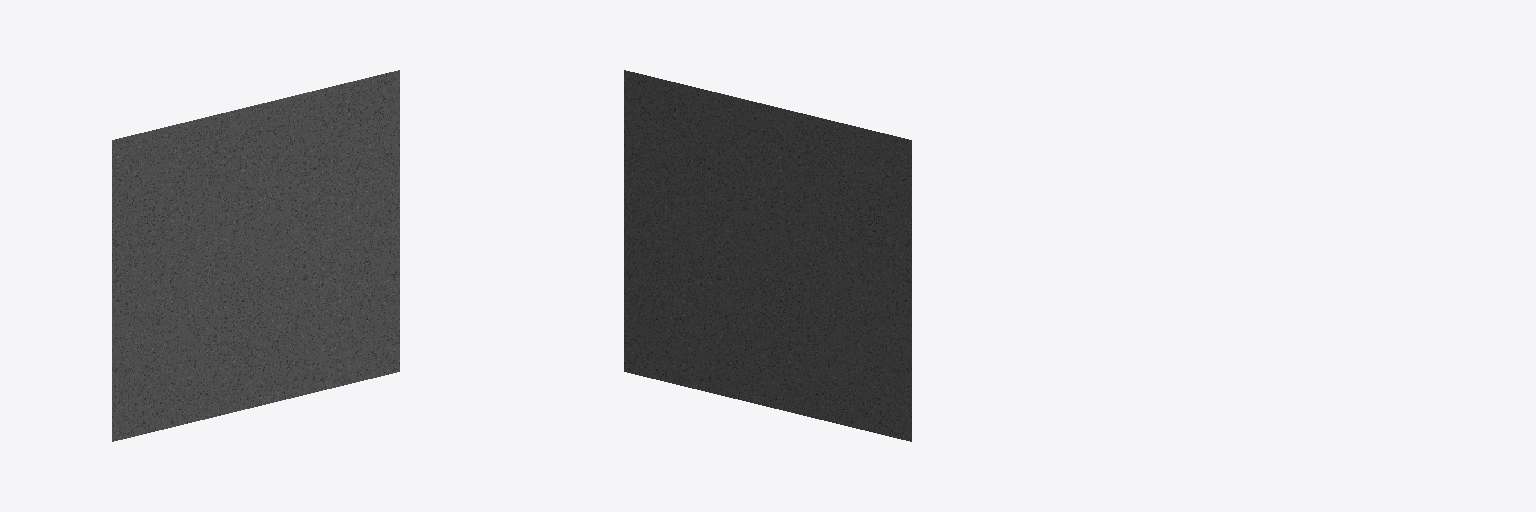
The picture shows the model from 3 angles: view 1: azimuth 30°, elevation 25°; view 2: azimuth 150°, elevation 25°; view 3: azimuth 270°, elevation 25°; orthographic projection.
Visible parts, largest first — view 1: Plane; view 2: Plane; view 3: none.
Part boxes in pixels (left/top/right/bottom): Plane: left=112, top=70, right=399, bottom=441; Plane: left=624, top=70, right=911, bottom=441.
Bounding box in the file's own units: 2 × 2 × 0.
1 materials, 1 textured.